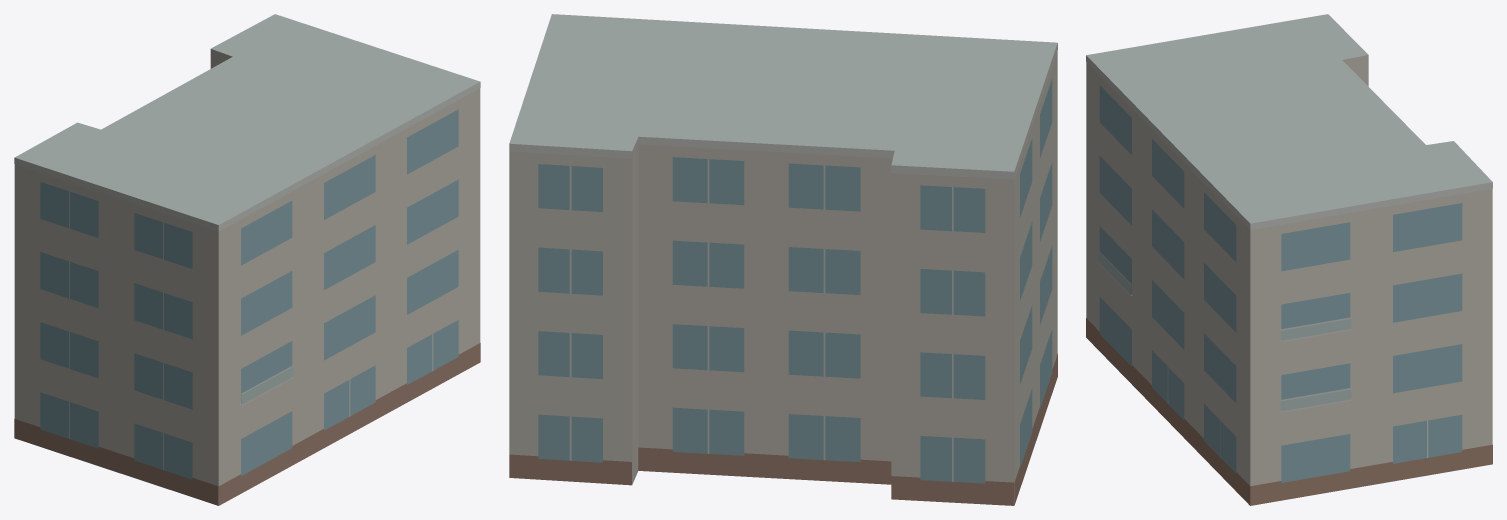
The model's file is survey-upis-33037062.glb.
3 renders of one model, left to right at view 1: azimuth 30°, elevation 25°; view 2: azimuth 150°, elevation 25°; view 3: azimuth 270°, elevation 25°, orthographic. The views are drawn at different scales.
Visible parts, largest first — view 1: survey-upis-33037062.tmp; view 2: survey-upis-33037062.tmp; view 3: survey-upis-33037062.tmp.
Part boxes in pixels (left/top/right/bottom): survey-upis-33037062.tmp: left=14, top=14, right=480, bottom=505; survey-upis-33037062.tmp: left=509, top=14, right=1057, bottom=505; survey-upis-33037062.tmp: left=1086, top=14, right=1492, bottom=505.
Size of the model in its own units: 16.89 by 10.6 by 13.85.
